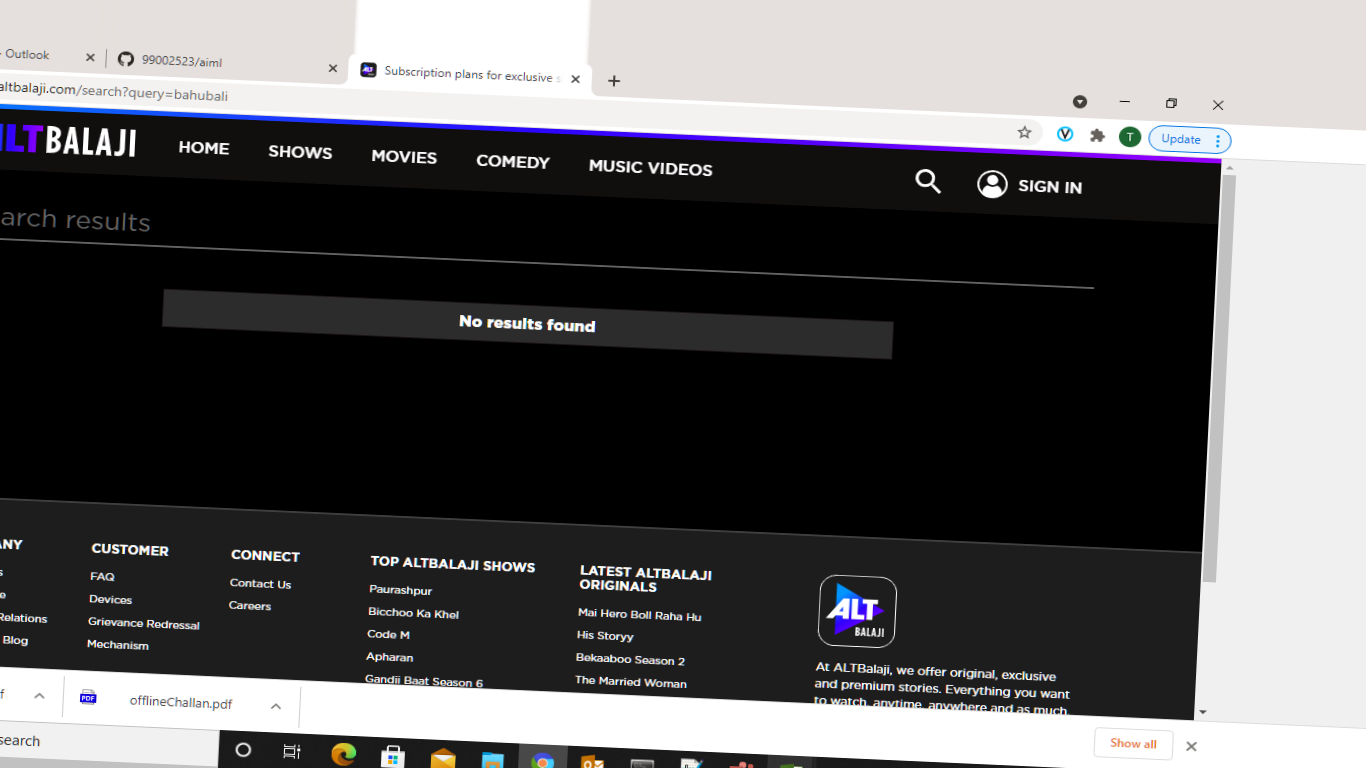noresultsfound: (133, 266, 948, 386)
profileicon: (978, 163, 1108, 205)
searchicon: (904, 153, 963, 207)
searchtextbox: (1, 184, 1082, 297)
